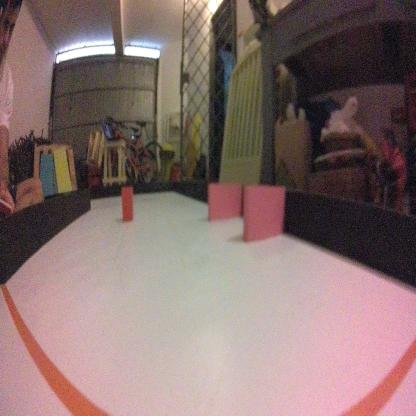magenta: (242, 184, 285, 247), (206, 181, 241, 221)
red: (121, 186, 133, 221)
